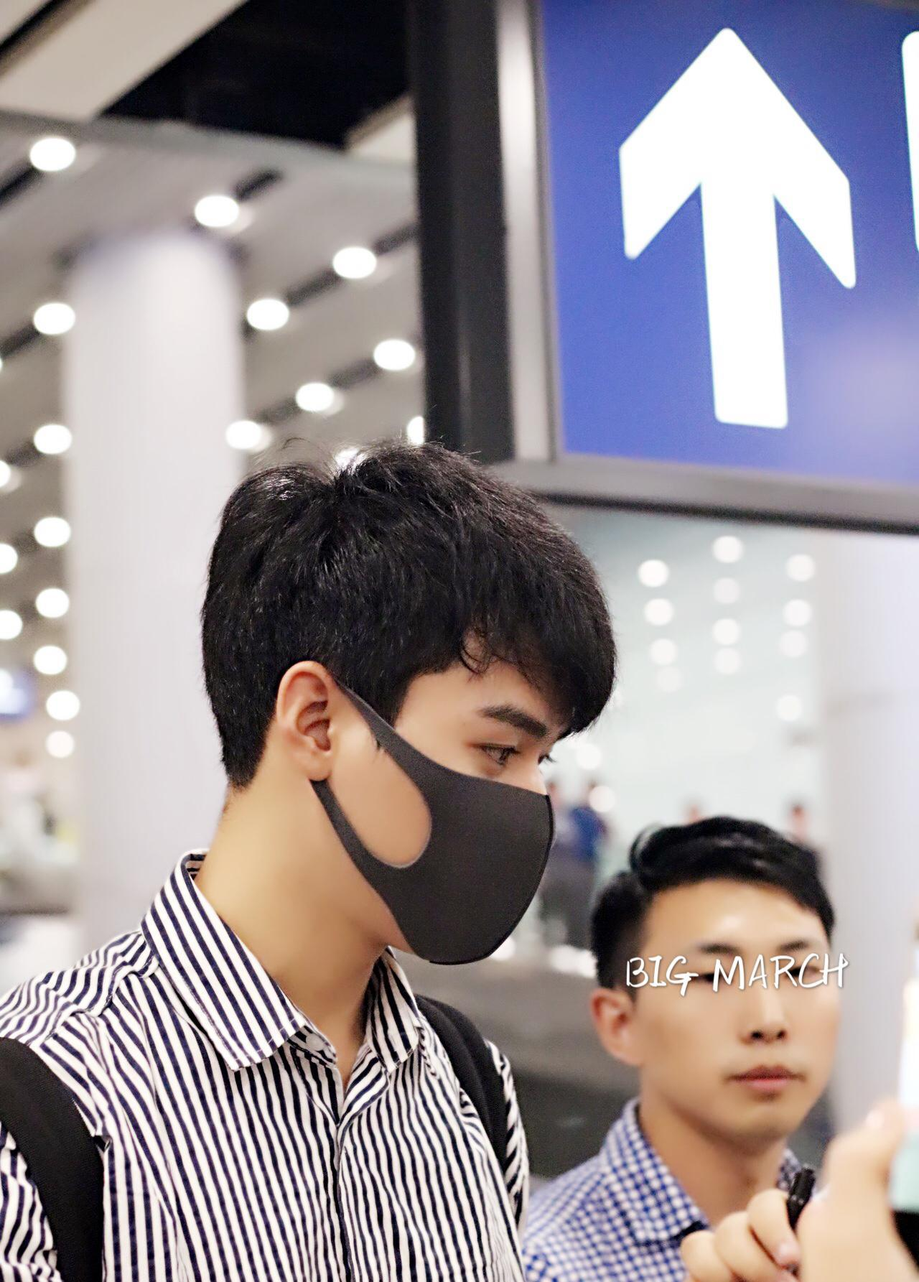NONE: (644, 913, 831, 1128)
OK: (295, 674, 587, 965)
